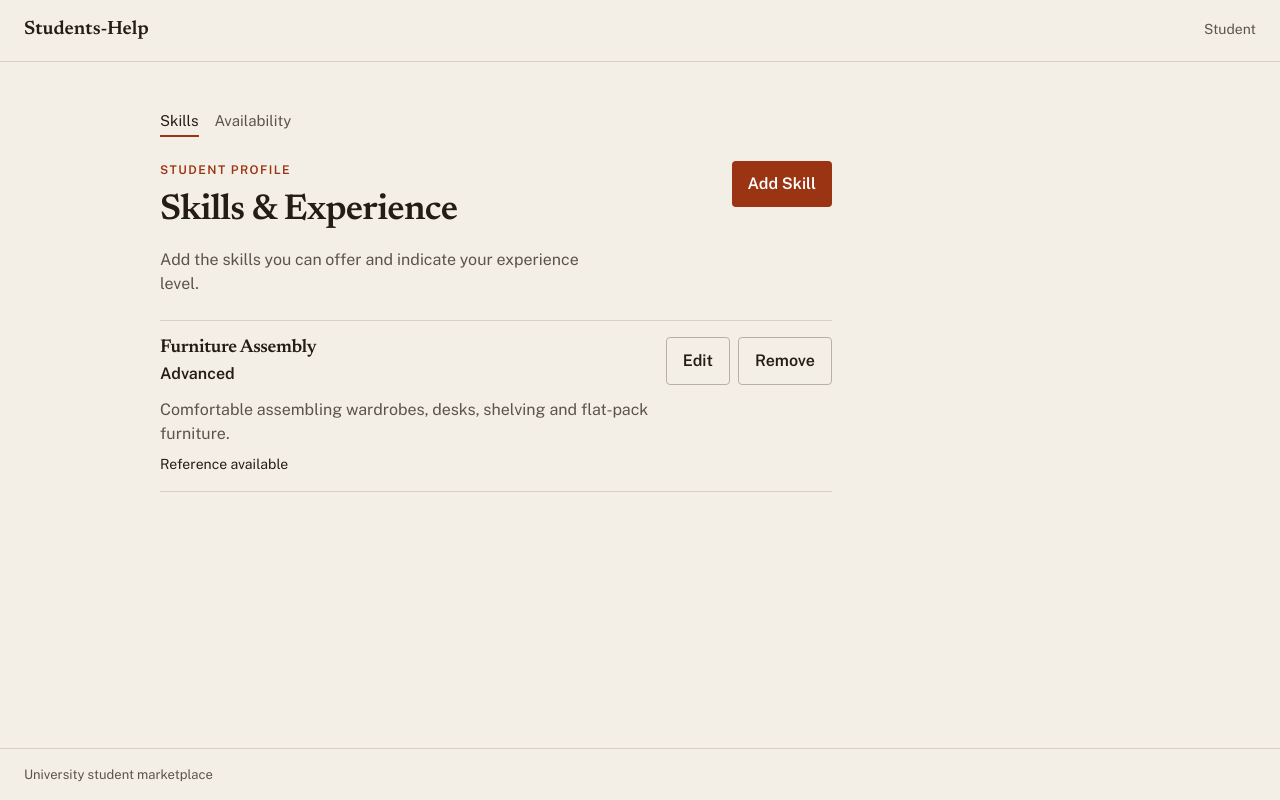
Student skills page › asks for confirmation before removing a skill and updates the list
Expected: the heading "Furniture Assembly" is shown, left=160, top=338, right=316, bottom=357
Click the button "Remove": (785, 361) left=738, top=337, right=832, bottom=386
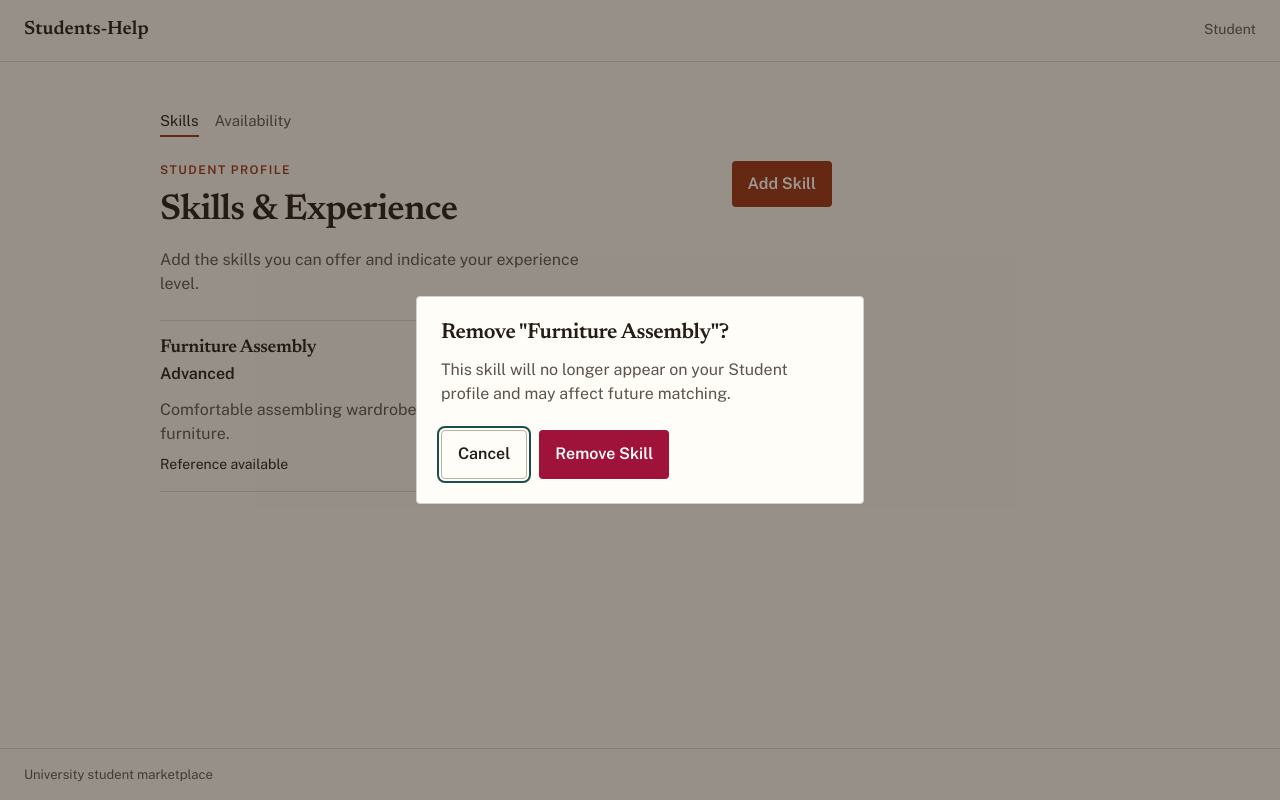
Now the heading "Remove \"Furniture Assembly\"?" is shown, box left=441, top=322, right=729, bottom=344
Now the text "This skill will no longer appear on your Student profile and may affect future matching." is shown, box left=441, top=360, right=788, bottom=403
Click the button "Cancel": (484, 454) left=441, top=430, right=527, bottom=479
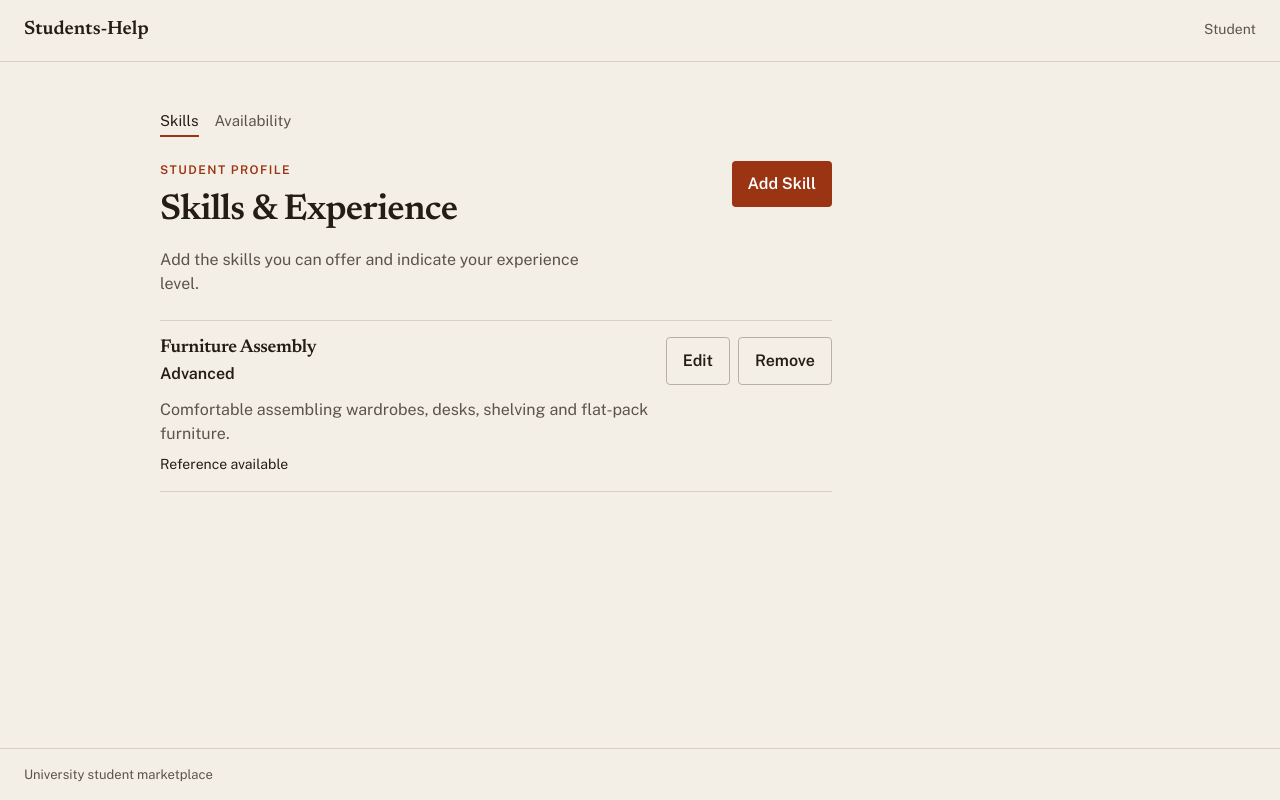
Expected: the heading "Furniture Assembly" is shown, left=160, top=338, right=316, bottom=357
Now the dialog is gone
Click the button "Remove": (785, 361) left=738, top=337, right=832, bottom=386
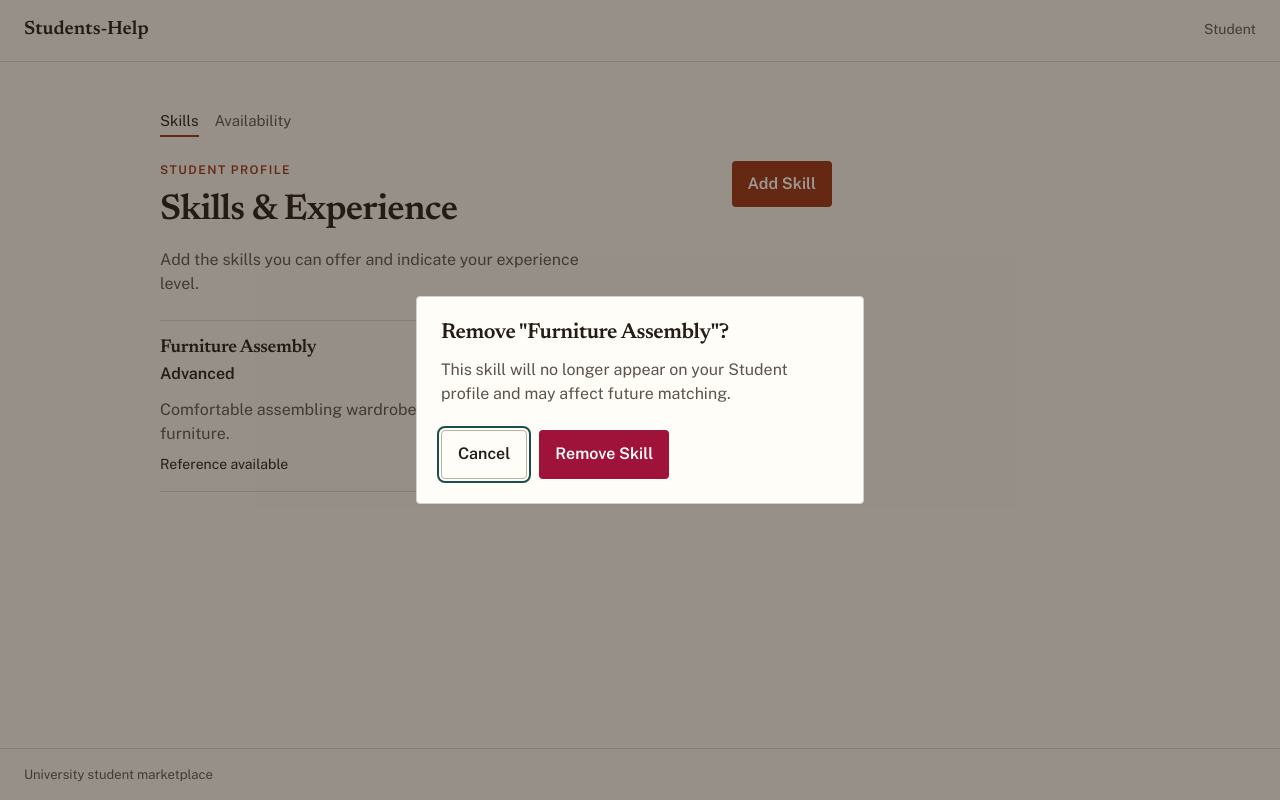
Click the button "Remove Skill": (604, 454) left=539, top=430, right=669, bottom=479
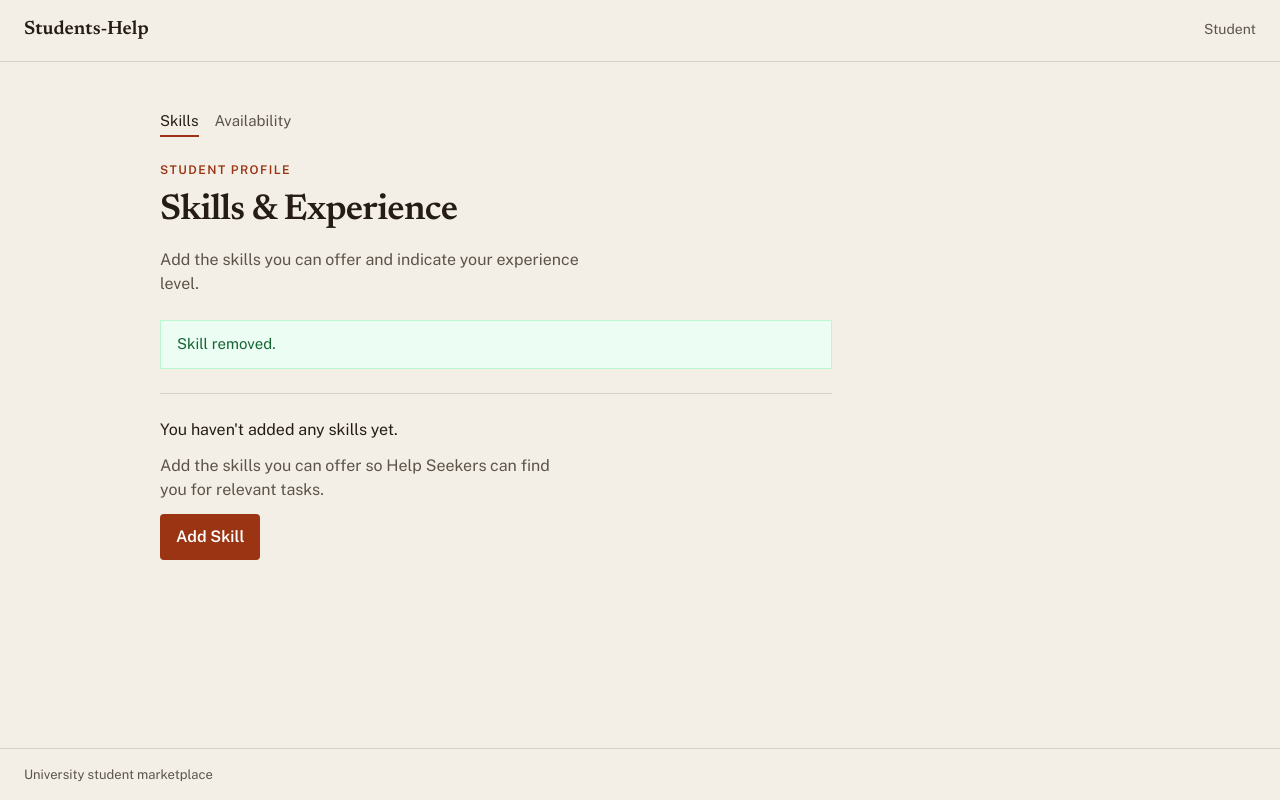
Now the text "Skill removed." is shown, box left=160, top=320, right=832, bottom=369
Now the heading "Furniture Assembly" is gone
Now the text "You haven't added any skills yet." is shown, box left=160, top=418, right=398, bottom=442
